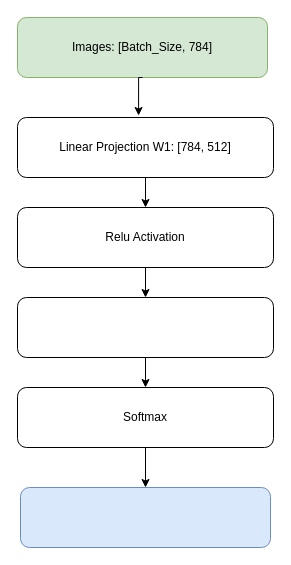
Some shapes in this 291 by 565 pixel diagram are drawn without their labels. Here are the shapes that lost their labels. From the top down, the centre of each, then its label:
At point 145,327: "Linear Projection W2: [512, 10]".
At point 145,517: "Prediction: [Batch_Size, 10]".
